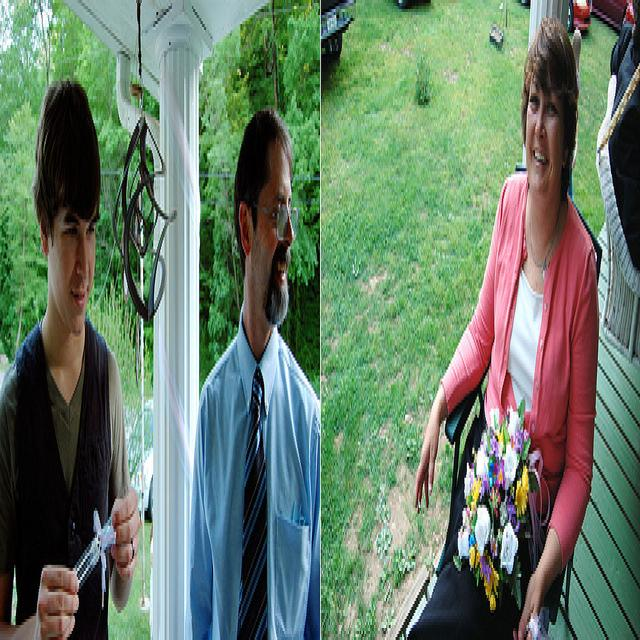Vehicle: (127, 398, 156, 526), (321, 0, 356, 62), (566, 0, 592, 34)
